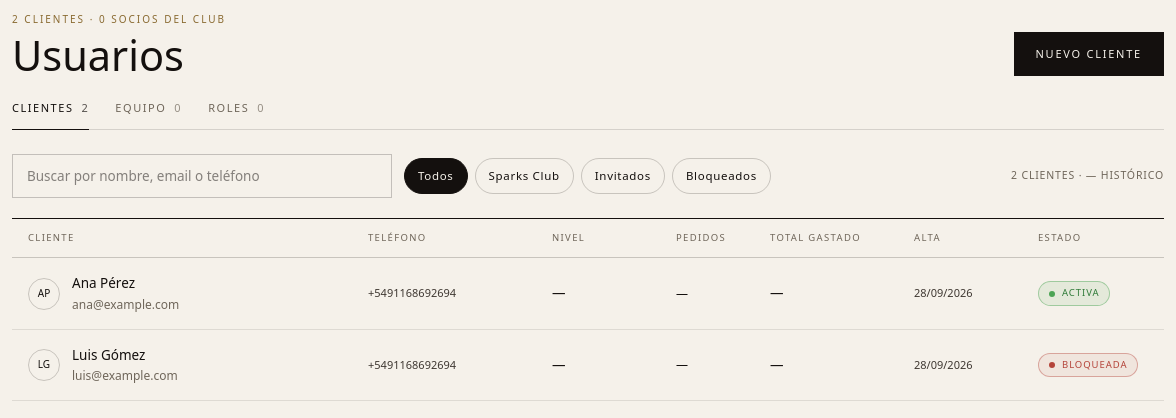
users screen › renders a client row and leaves club and guest filters empty
The image size is (1176, 418).
Expected: the text "AP" is shown, [28,278,60,310]
Expected: the text "ana@example.com" is shown, [72,296,179,314]
Click the button "Sparks Club": (524, 176) [474,158,574,194]
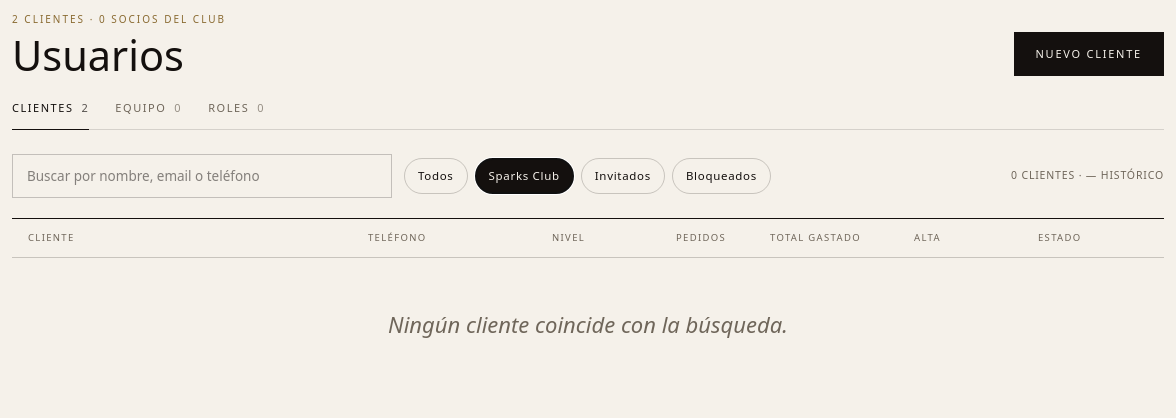
Expected: the text "Ningún cliente coincide con la búsqueda." is shown, [388,310,788,340]
Click the button "Invitados": (623, 176) [581,158,665,194]
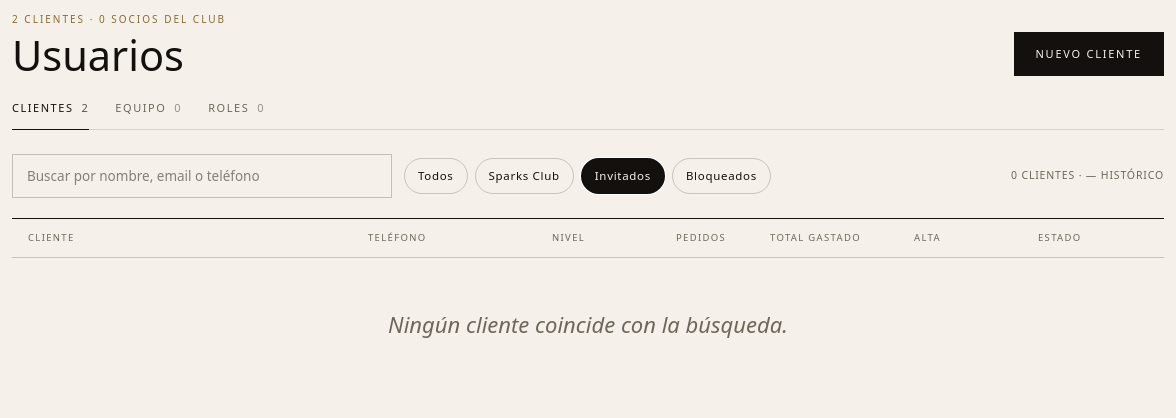
Expected: the text "Ningún cliente coincide con la búsqueda." is shown, [388,310,788,340]
Click the button "Bloqueados": (722, 176) [672,158,771,194]
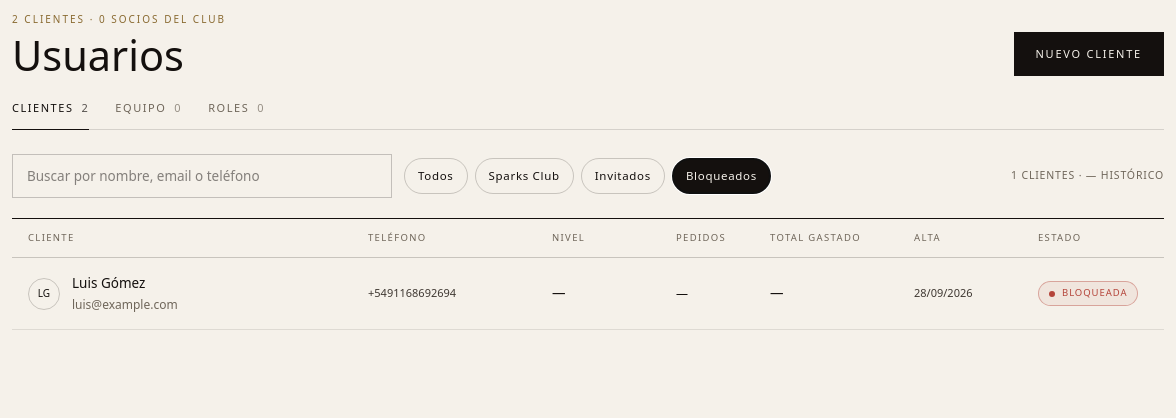
Expected: the button "Ana Pérez" is not shown
Expected: the button "Luis Gómez" is shown, [12,258,1164,330]
Expected: the text "Bloqueada" is shown, [1038,282,1138,306]
